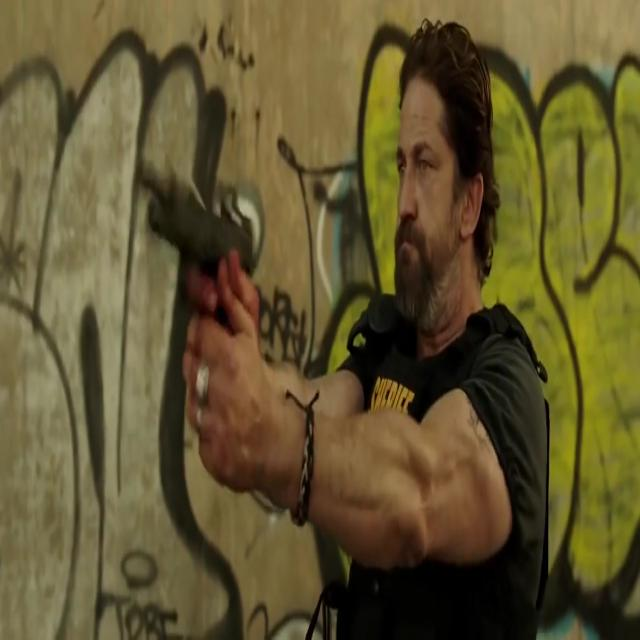Weapon: (144, 164, 260, 355)
